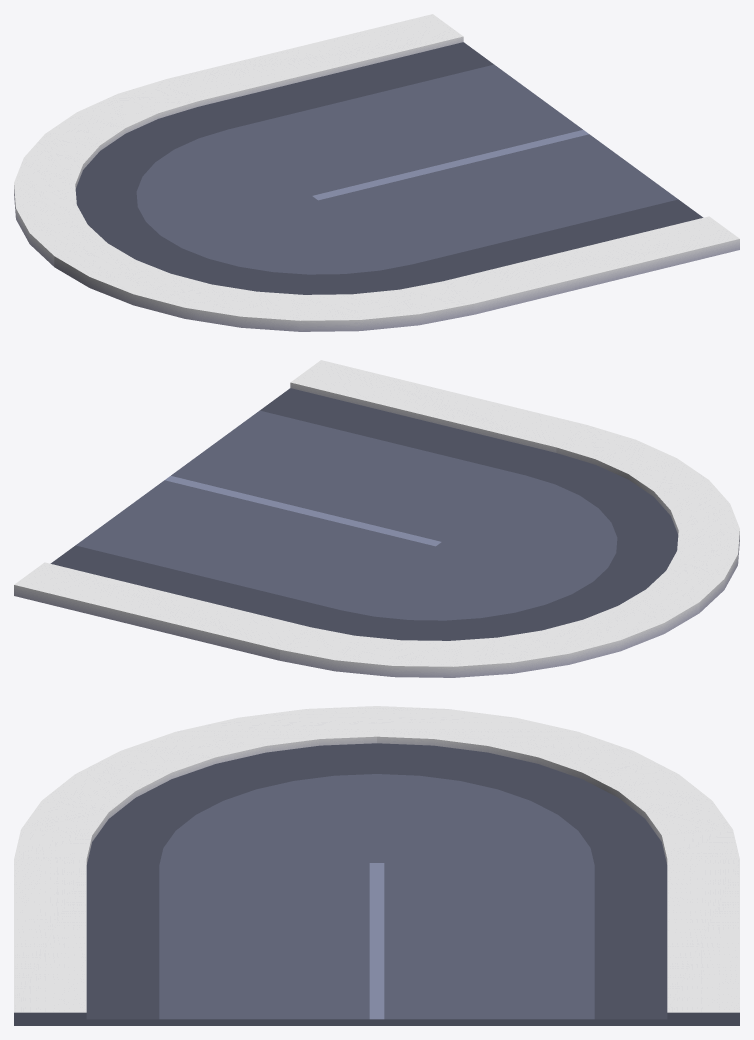
File: road_end_round.glb
3 renders of one model, top to bottom at view 1: azimuth 30°, elevation 25°; view 2: azimuth 150°, elevation 25°; view 3: azimuth 270°, elevation 25°, orthographic. The views are drawn at different scales.
Visible parts, largest first — view 1: road-end-round; view 2: road-end-round; view 3: road-end-round.
Part boxes in pixels (x1,y1,x2,y2): road-end-round: (14, 14, 739, 331); road-end-round: (14, 360, 739, 677); road-end-round: (14, 706, 739, 1025).
Bounding box in the file's own units: 1 × 0.02 × 1.
Materials: 1 (1 with a texture image).
